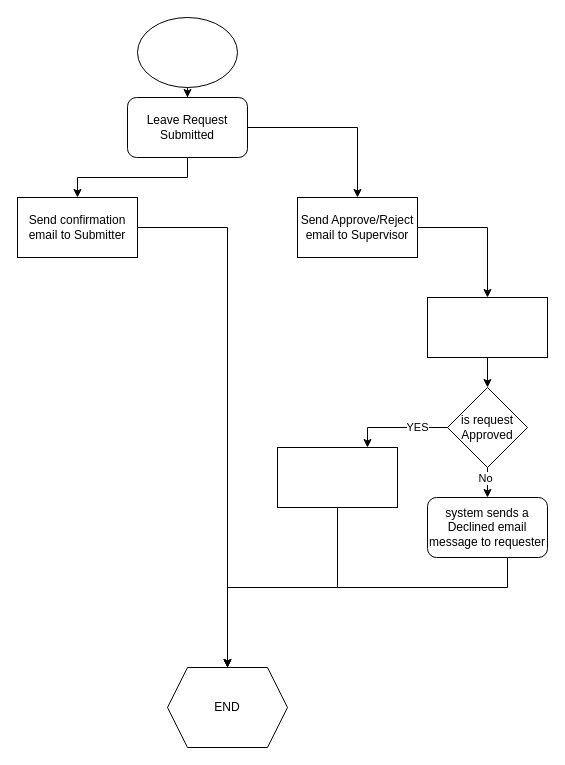
This 565x765 diagram has some shape labels left out. The box of each missing label's shape, as (x1, y1, x2, y2) in pixels:
START: (136, 16, 238, 88)
Supervisor Approves/Rejects the request: (426, 296, 548, 358)
system sends a Approved email message to requester: (276, 446, 398, 508)
